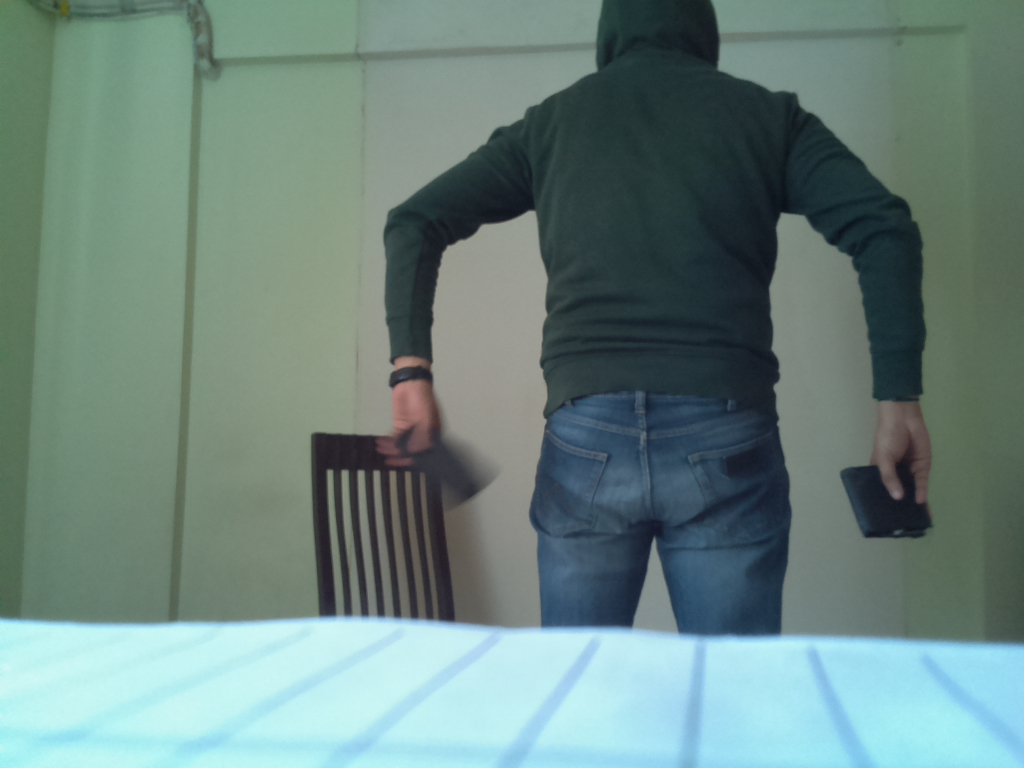none2: (827, 453, 946, 541)
